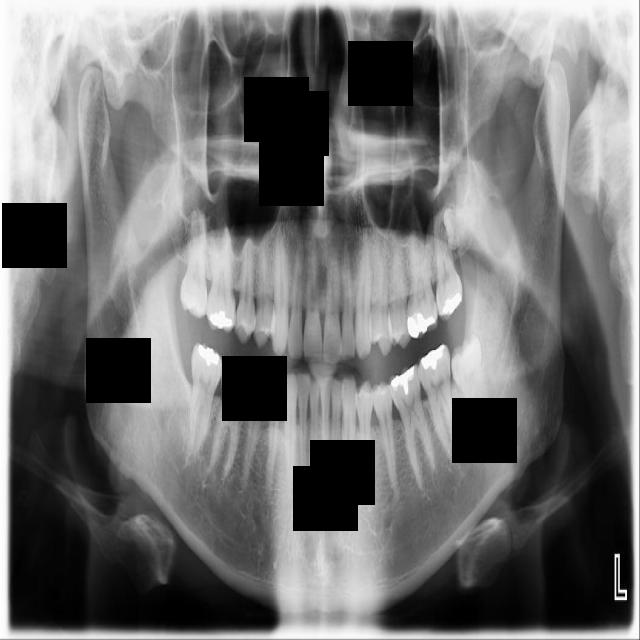52: (409, 342, 464, 397), (382, 360, 434, 414), (212, 356, 258, 405), (407, 282, 439, 339), (191, 341, 223, 391), (206, 283, 236, 333), (436, 270, 463, 322)
73: (596, 572, 603, 584)
BioHorizons Implant: (431, 202, 464, 321)
Biomet 3i Implant: (446, 332, 492, 433)
Blue Sky Bio Implant: (416, 342, 458, 463)
Caries: (180, 210, 207, 319)
Implant: (188, 341, 223, 454)
